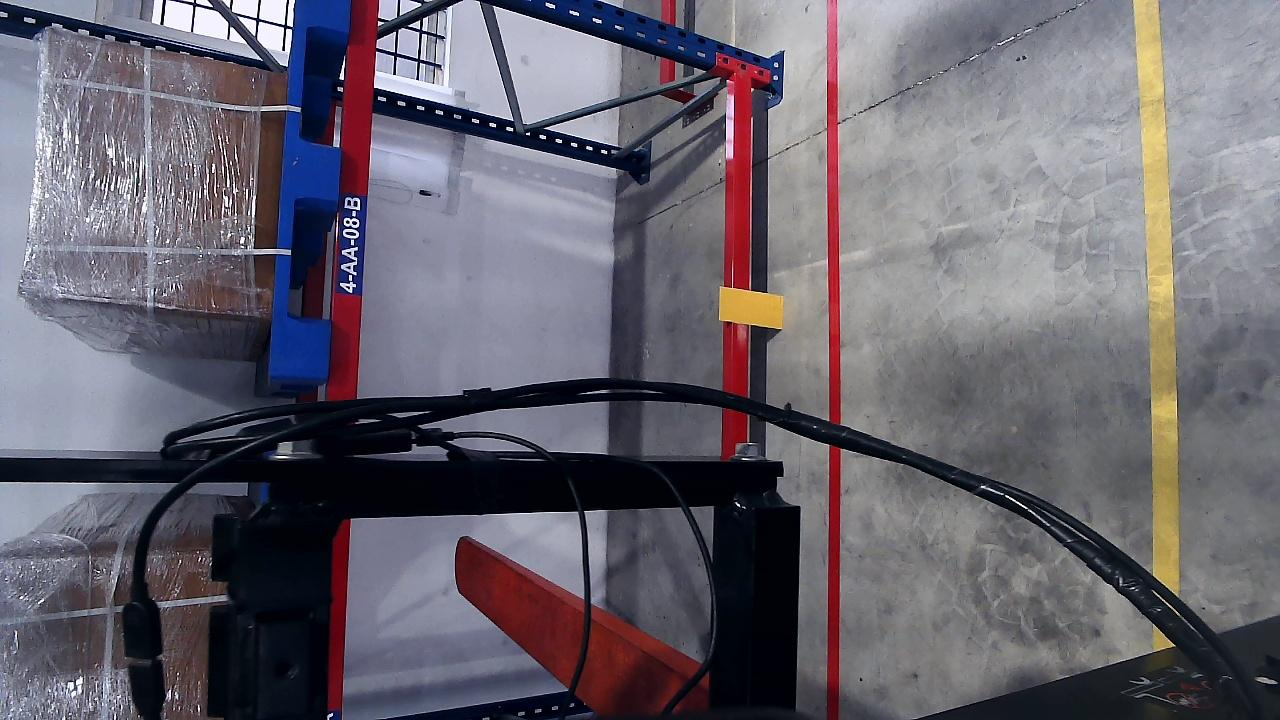h_rack: (324, 1, 382, 392), (727, 75, 756, 396)
orange_strip: (719, 285, 784, 328)
red_line: (823, 0, 842, 720)
small_pallet: (270, 0, 352, 381)
yellow_line: (1135, 0, 1181, 582)
